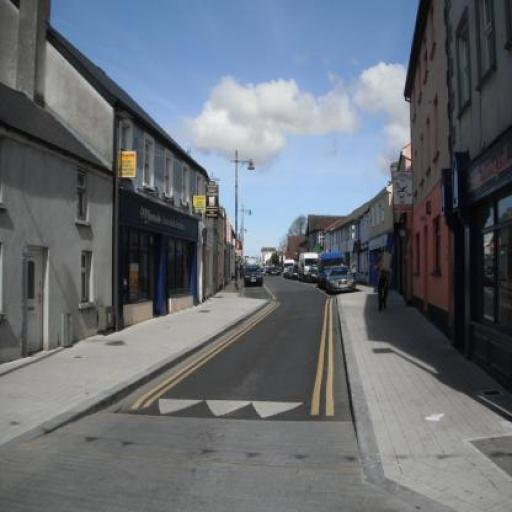street light: (229, 149, 254, 290), (240, 206, 253, 278)
